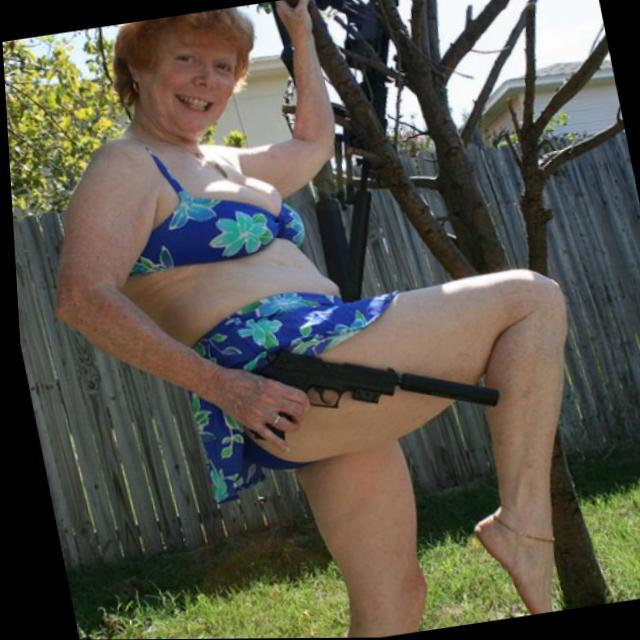weapon: (222, 314, 506, 456)
